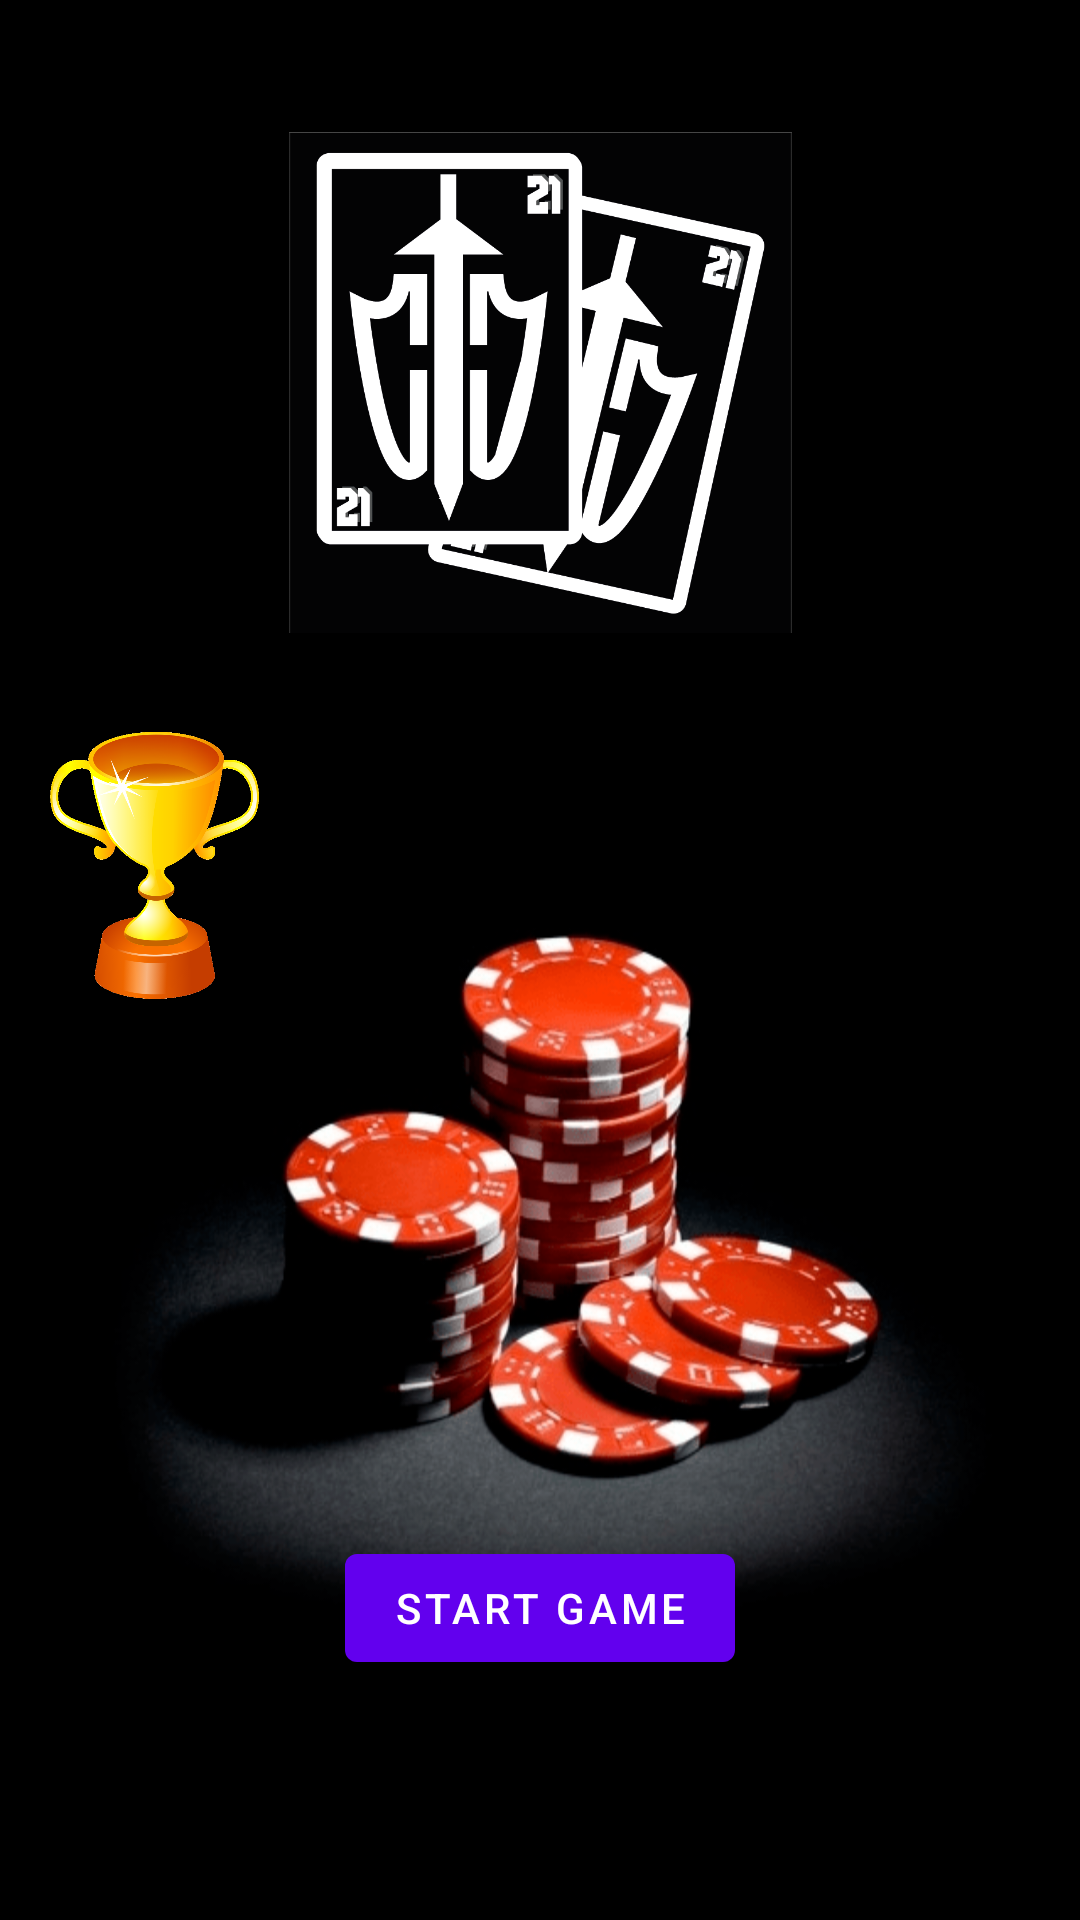

Where to tap for icons on this 1080x1920 app screen, as (x=x, y=y):
trofeo: (x=154, y=865)
